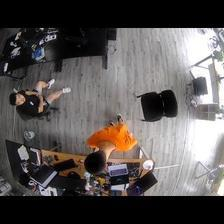normal: (85, 113, 136, 173), (7, 78, 73, 123)
